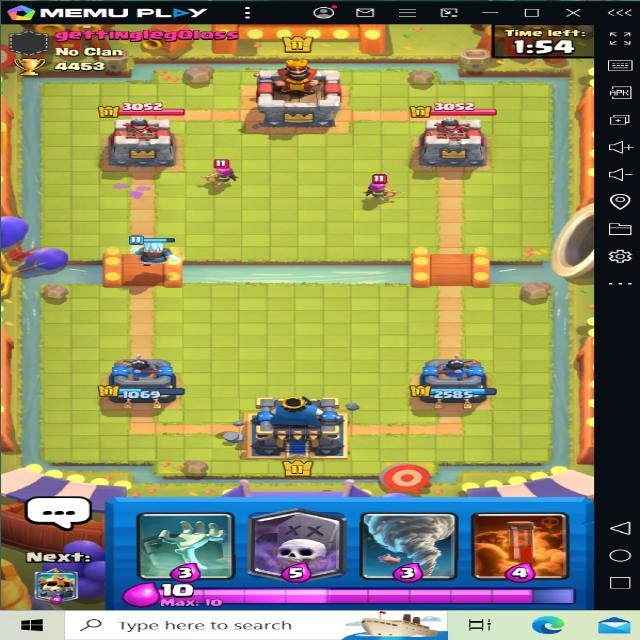Archer: (192, 156, 242, 189), (355, 170, 400, 202)
